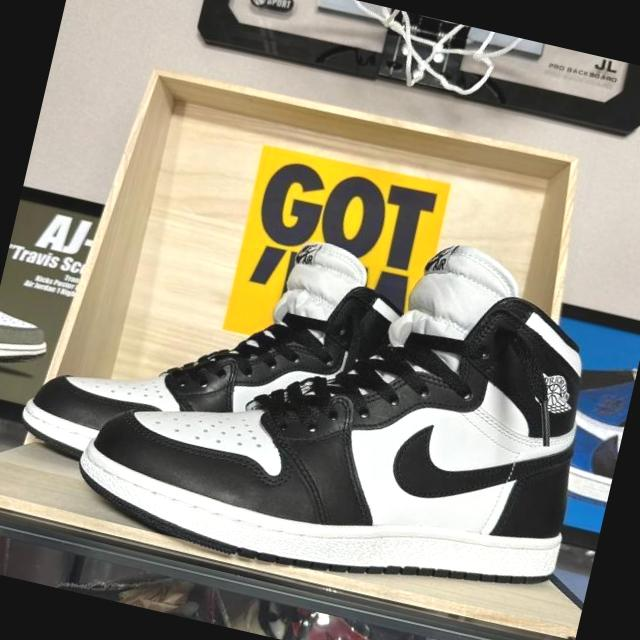nike_original_jordan: (67, 214, 638, 632), (14, 197, 431, 528)
